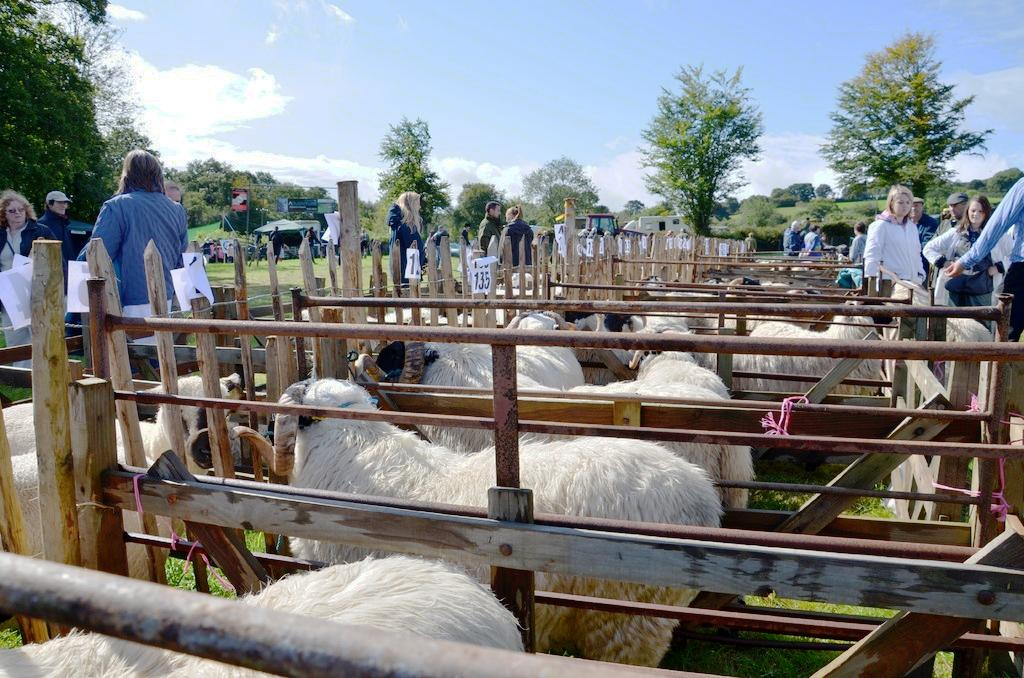Sheep: (0, 256, 1006, 677), (0, 554, 522, 677)
